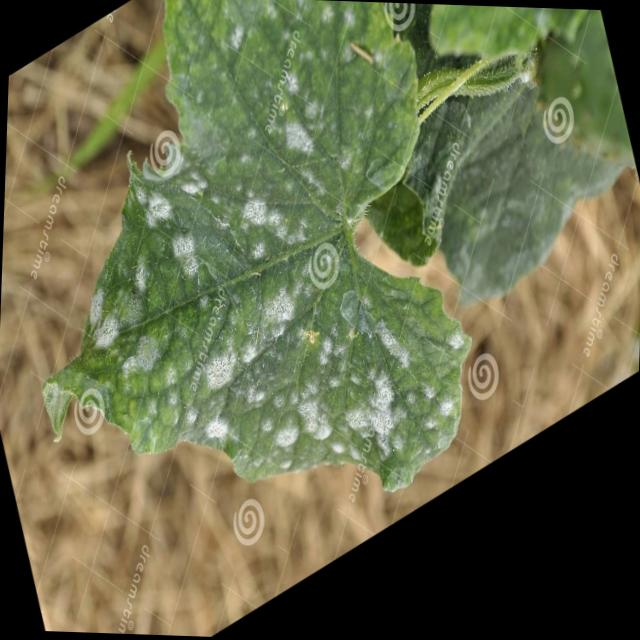Powdery_mildew_on_lettuce: (32, 0, 472, 498), (259, 256, 332, 409), (270, 44, 334, 176)
